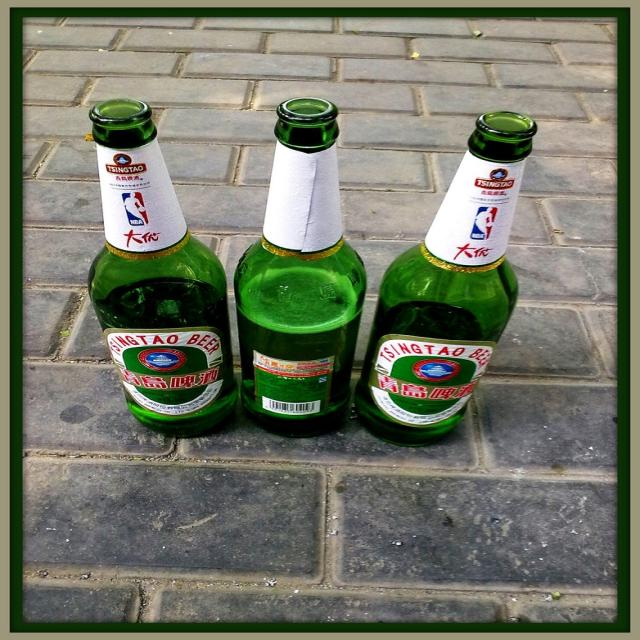tsingtao: (133, 344, 191, 377), (407, 352, 463, 385), (105, 153, 153, 181), (474, 168, 518, 193)
